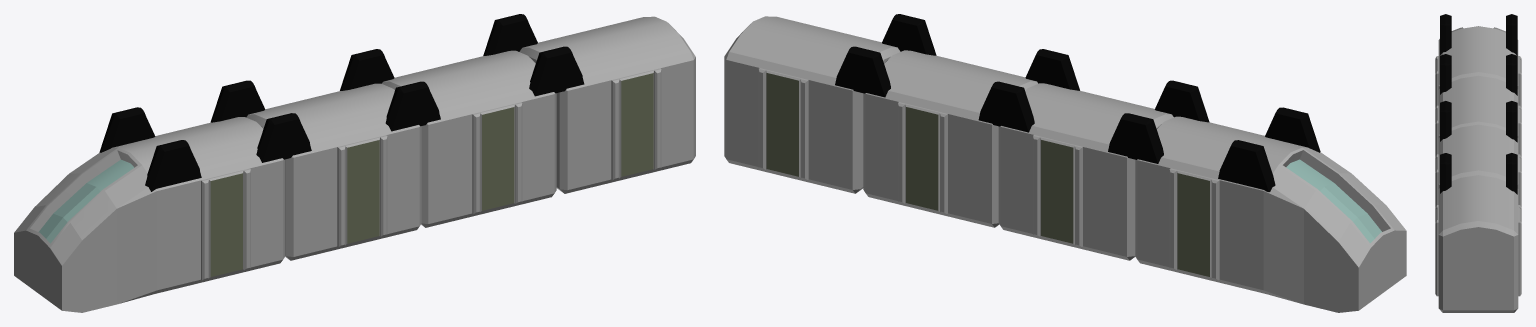
File: Train.fbx
3 views of the same model, side by side, from view 1: azimuth 30°, elevation 25°; view 2: azimuth 150°, elevation 25°; view 3: azimuth 270°, elevation 25° (orthographic). The views are drawn at different scales.
Parts seen in each view (by area): view 1: polySurface4485; view 2: polySurface4485; view 3: polySurface4485.
Boxes of the visible parts, <box> form: polySurface4485: <box>14,14,695,312</box>; polySurface4485: <box>724,14,1406,312</box>; polySurface4485: <box>1435,14,1521,312</box>.
Bounding box in the file's own units: 383 × 84.02 × 60.49.
